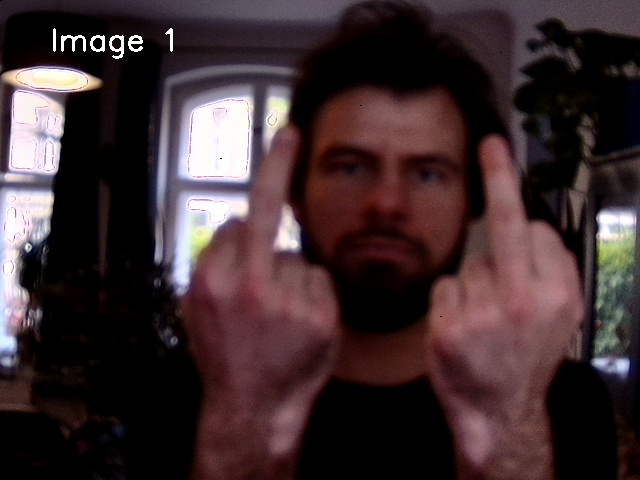Peace Among Worlds: (182, 111, 580, 412)
